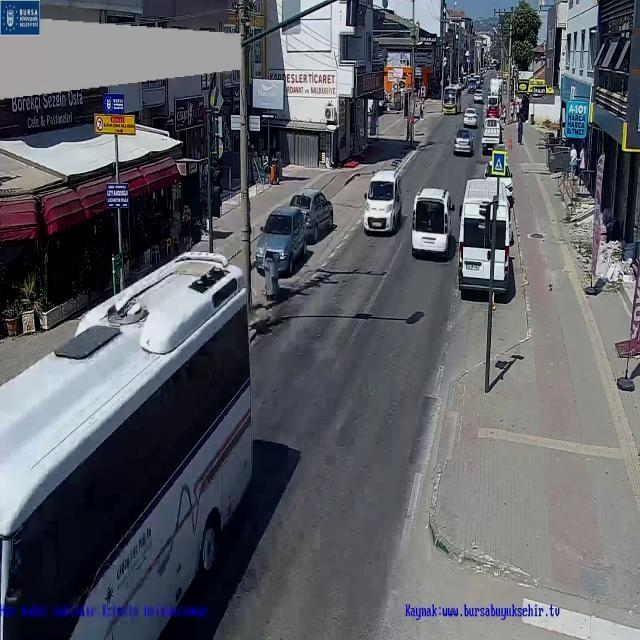Bus: (2, 252, 252, 636), (458, 180, 510, 294), (406, 188, 456, 260), (360, 168, 404, 235), (441, 82, 463, 116)
Car: (257, 204, 304, 275), (288, 190, 335, 242), (483, 119, 503, 155), (455, 129, 472, 160), (465, 106, 479, 127)
